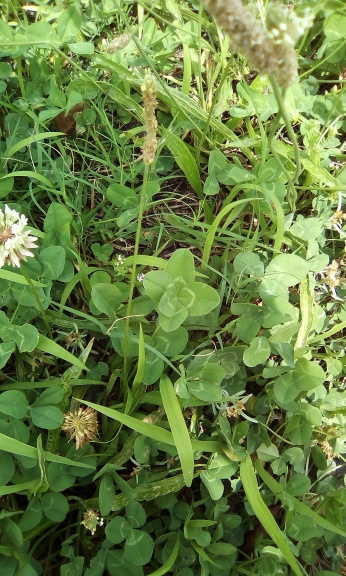4leaf: (142, 248, 221, 333)
